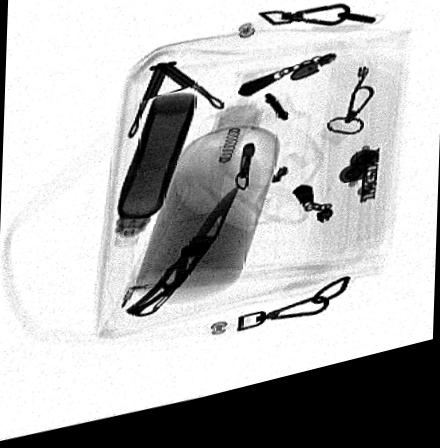Knife: (123, 194, 240, 326)
